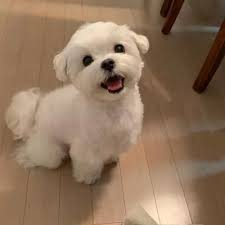dog: (3, 20, 155, 186)
